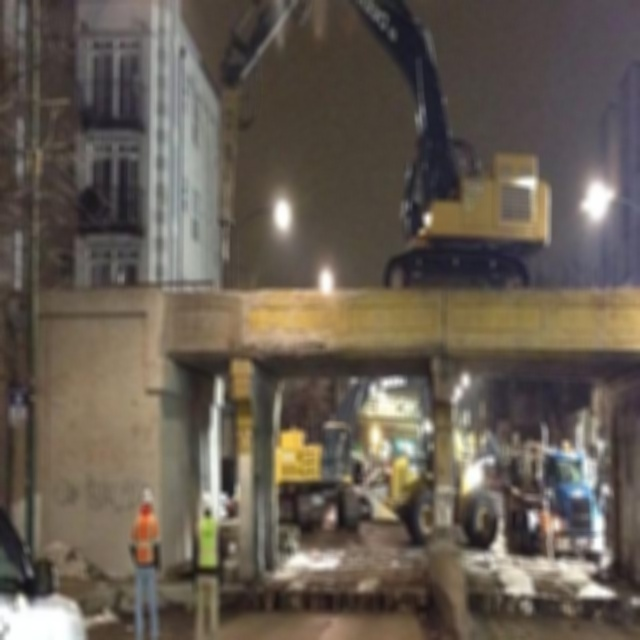Con_Chaleco: (132, 513, 158, 571), (194, 514, 220, 571)
